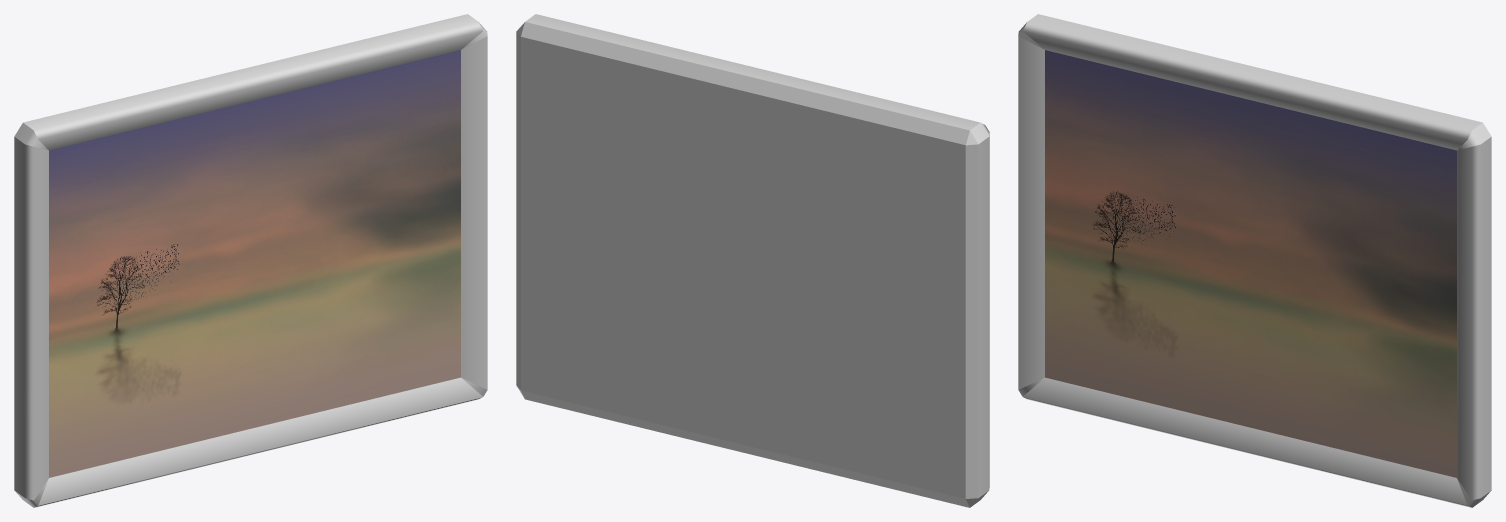
The model's file is painting_tree.glb.
The picture shows the model from 3 angles, left to right: view 1: azimuth 30°, elevation 25°; view 2: azimuth 150°, elevation 25°; view 3: azimuth 330°, elevation 25°; orthographic projection.
Parts seen in each view (by area): view 1: Plane, Mesh_1; view 2: Mesh_1; view 3: Plane, Mesh_1.
Boxes of the visible parts, x1,y1,x2,y2 form: Plane: [49, 50, 460, 477]; Mesh_1: [14, 14, 487, 507]; Mesh_1: [516, 14, 989, 507]; Plane: [1045, 50, 1456, 477]; Mesh_1: [1018, 14, 1491, 507].
Bounding box in the file's own units: 0.41 × 0.32 × 0.03.
2 materials, 1 textured.
